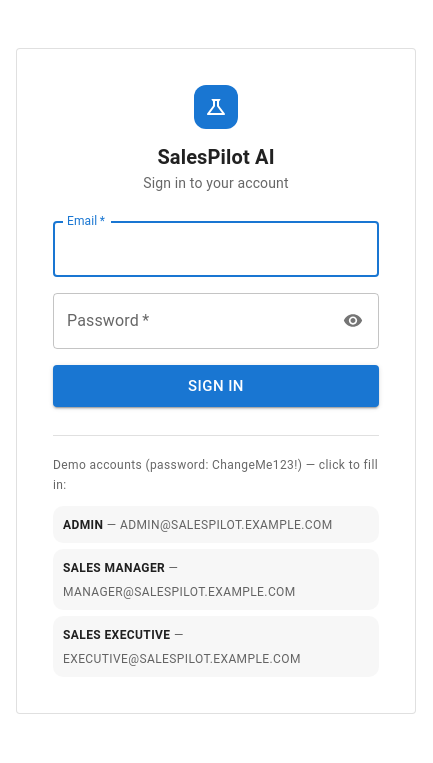
Test case: Login page › shows "incorrect email or password" for a genuine 401 from the API
In the field named "Email address": coordinates (216, 249) 53,221 -> 379,277, type "nobody@example.com"
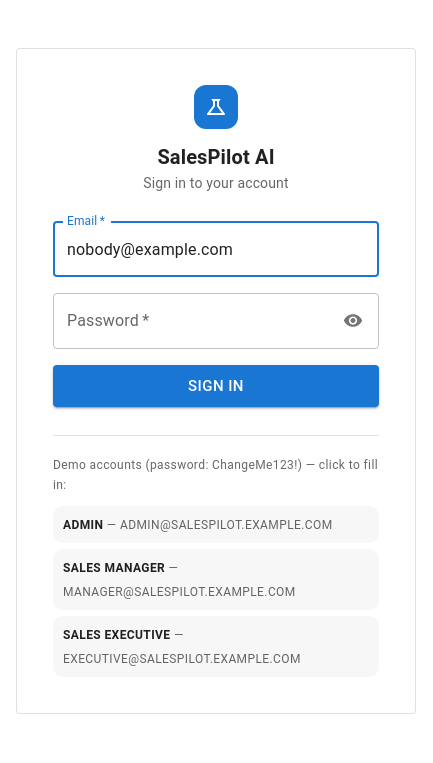
In the password field labelled "Password": coordinates (192, 321) 53,293 -> 330,349, type "wrong-password"
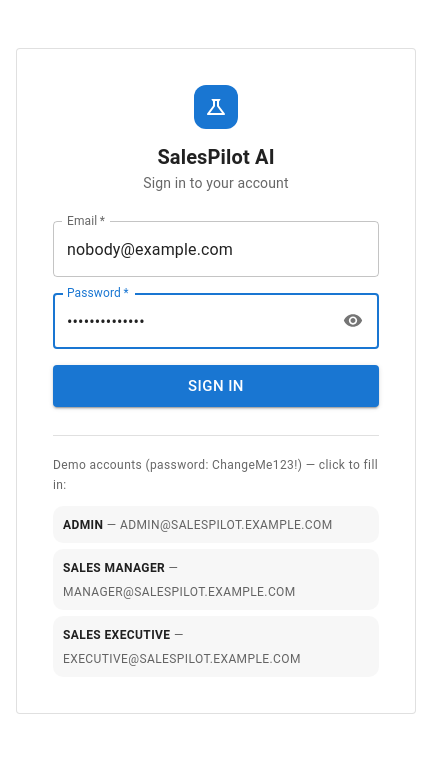
Click the button "Sign In": coordinates (216, 386) 53,365 -> 379,408
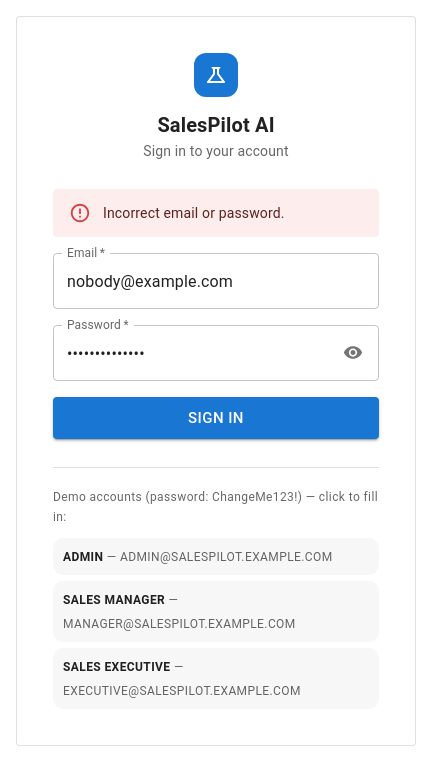
Now the text "Incorrect email or password." is shown, box 103,205 -> 285,221
